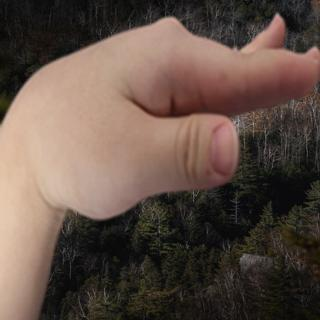Wait: (8, 16, 320, 217)
